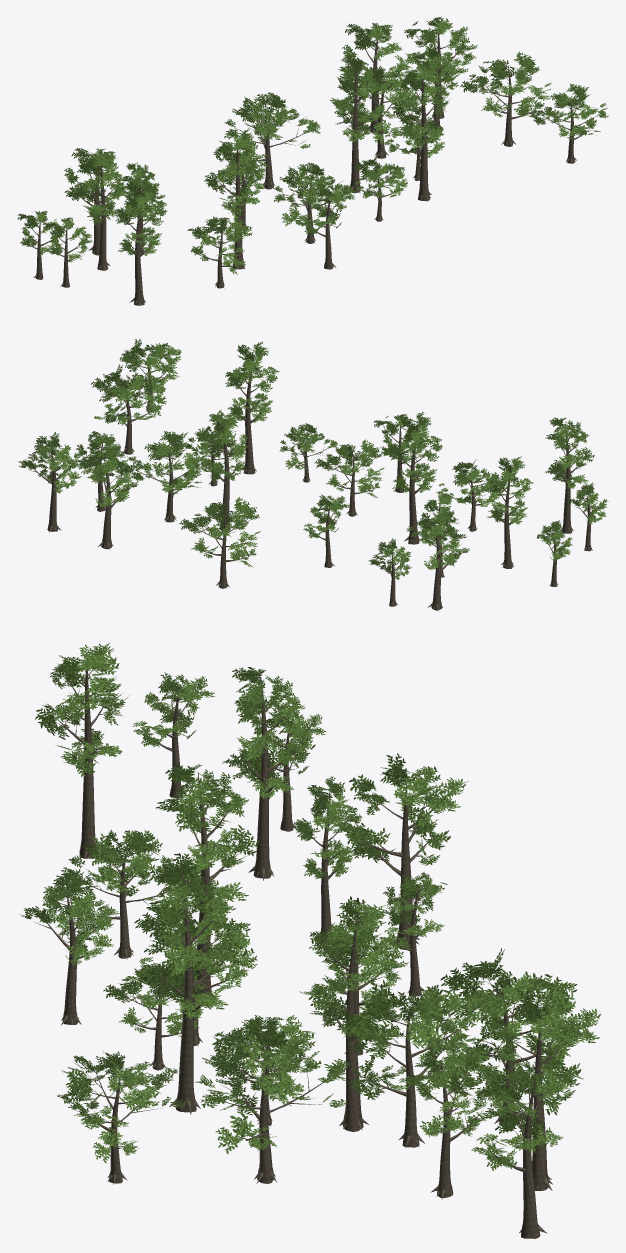
The model's file is Canopy_11_15.glb.
3 renders of one model, top to bottom at view 1: azimuth 30°, elevation 25°; view 2: azimuth 150°, elevation 25°; view 3: azimuth 270°, elevation 25°, orthographic. The views are drawn at different scales.
Visible parts, largest first — view 1: Canopy_11_15; view 2: Canopy_11_15; view 3: Canopy_11_15.
Boxes of the visible parts, box(x1,y1,x2,y2) form: Canopy_11_15: box(17, 16, 608, 305); Canopy_11_15: box(18, 338, 608, 610); Canopy_11_15: box(20, 643, 600, 1238).
Size of the model in its own units: 98.46 by 31.15 by 53.68.
Materials: 2 (2 with a texture image).
